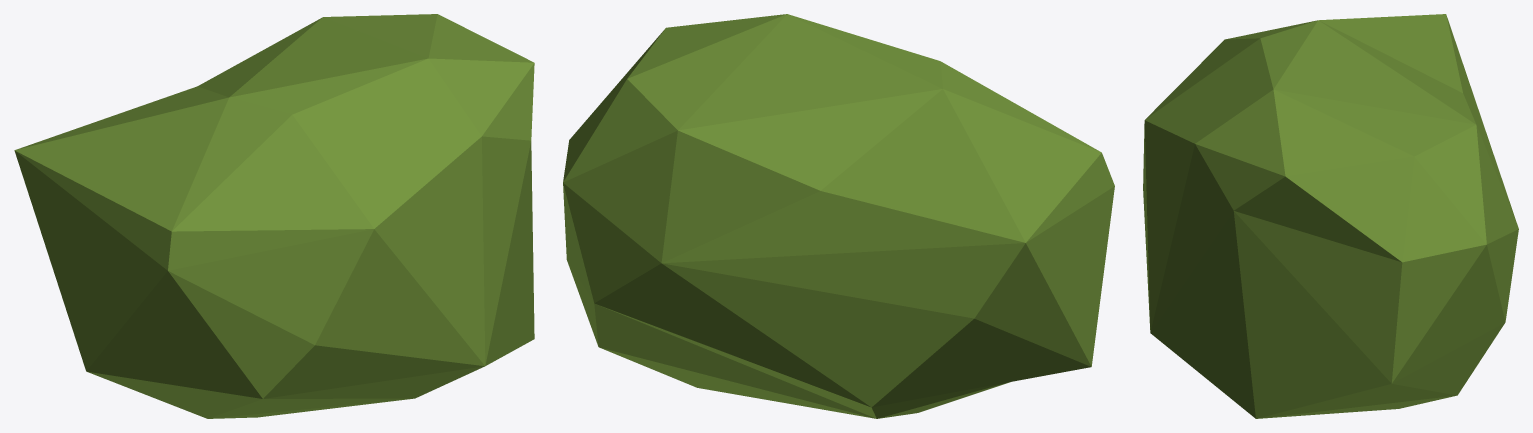
Rendered from Bush_03.glb.
3 views of the same model, side by side, from view 1: azimuth 30°, elevation 25°; view 2: azimuth 150°, elevation 25°; view 3: azimuth 270°, elevation 25° (orthographic). The views are drawn at different scales.
Parts seen in each view (by area): view 1: Bush_03_LOD0; view 2: Bush_03_LOD0; view 3: Bush_03_LOD0.
Part boxes in pixels (box(x1,y1,x2,y2)): Bush_03_LOD0: box(14, 14, 534, 418); Bush_03_LOD0: box(563, 14, 1114, 418); Bush_03_LOD0: box(1143, 14, 1518, 418).
Size of what is drawn, in the model's own units: 0.7388 by 0.5 by 0.5269.
Materials: 1 (1 with a texture image).
